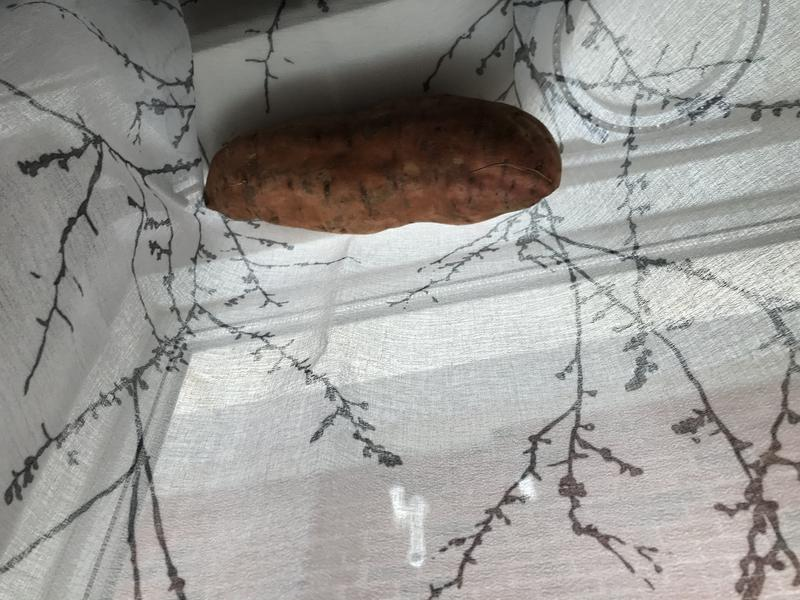sweet_potato: (191, 83, 573, 235)
